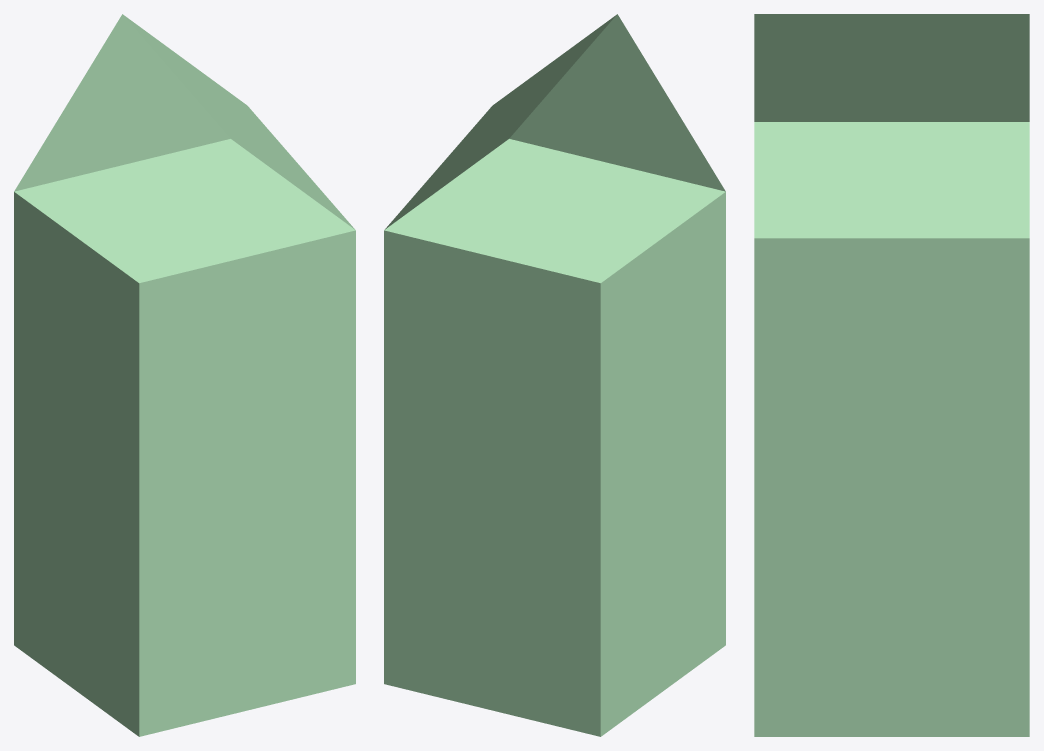
Rendered from example-ghost.glb.
3 renders of one model, left to right at view 1: azimuth 30°, elevation 25°; view 2: azimuth 150°, elevation 25°; view 3: azimuth 270°, elevation 25°, orthographic. The views are drawn at different scales.
Visible parts, largest first — view 1: ExampleGhost; view 2: ExampleGhost; view 3: ExampleGhost.
Boxes of the visible parts, x1,y1,x2,y2 form: ExampleGhost: [14, 14, 355, 736]; ExampleGhost: [384, 14, 725, 736]; ExampleGhost: [754, 14, 1029, 736].
Bounding box in the file's own units: 0.6 × 1.6 × 0.6.
